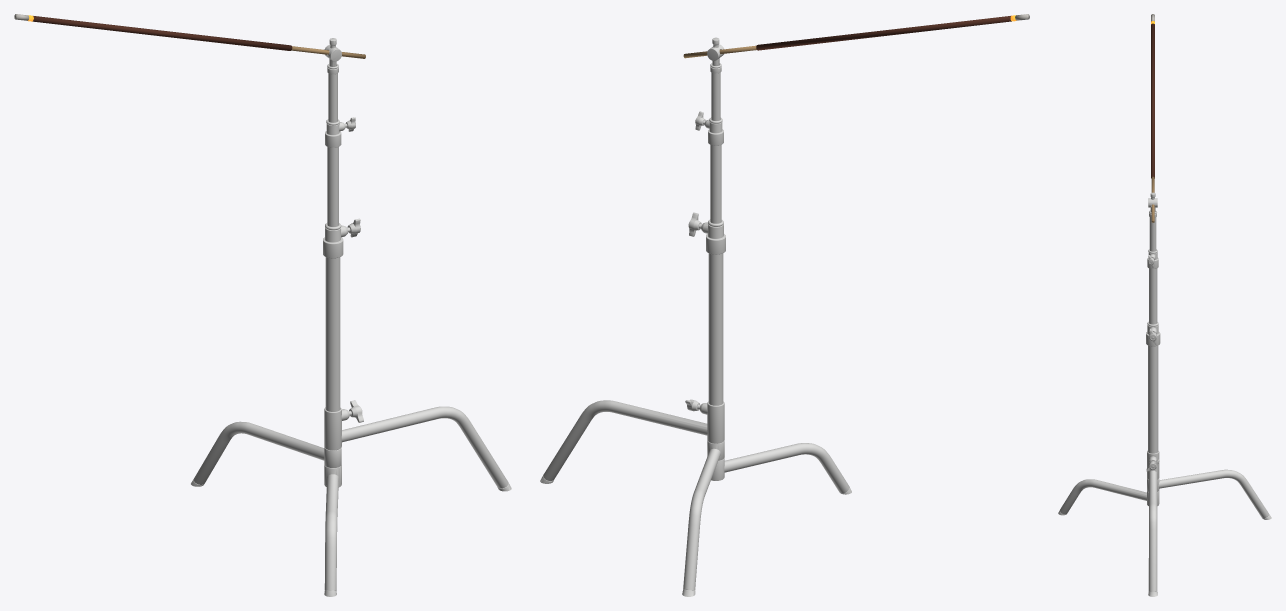
Rendered from bts-holder.glb.
3 views of the same model, side by side, from view 1: azimuth 30°, elevation 25°; view 2: azimuth 150°, elevation 25°; view 3: azimuth 270°, elevation 25° (orthographic). The views are drawn at different scales.
Parts seen in each view (by area): view 1: hybrid2, stick_coat; view 2: hybrid2, stick_coat; view 3: hybrid2, stick_coat.
Boxes of the visible parts, x1,y1,x2,y2 form: hybrid2: (191,38,511,596); stick_coat: (32,16,292,50); hybrid2: (540,37,851,596); stick_coat: (756,16,1011,50); hybrid2: (1058,192,1271,596); stick_coat: (1151,23,1154,178).
Bounding box in the file's own units: 0.2151 × 0.2461 × 0.1149.
